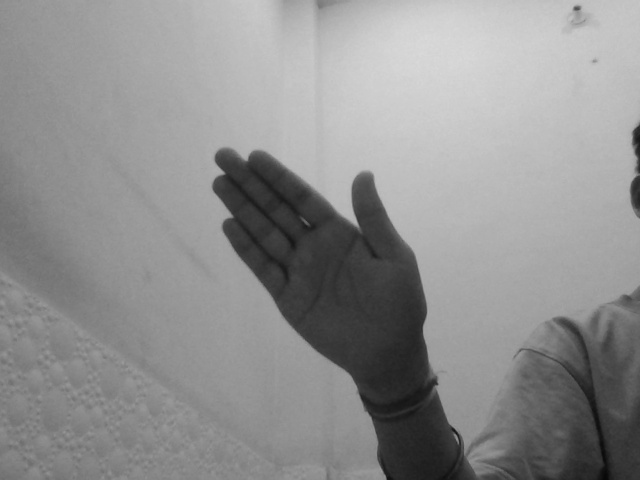Hello: (207, 144, 439, 372)
